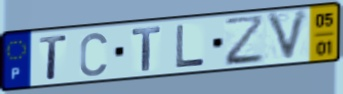C: (78, 31, 110, 79)
L: (174, 24, 207, 70)
T: (130, 25, 163, 73), (38, 33, 69, 81)
V: (264, 7, 312, 65)
Z: (222, 13, 266, 68)
